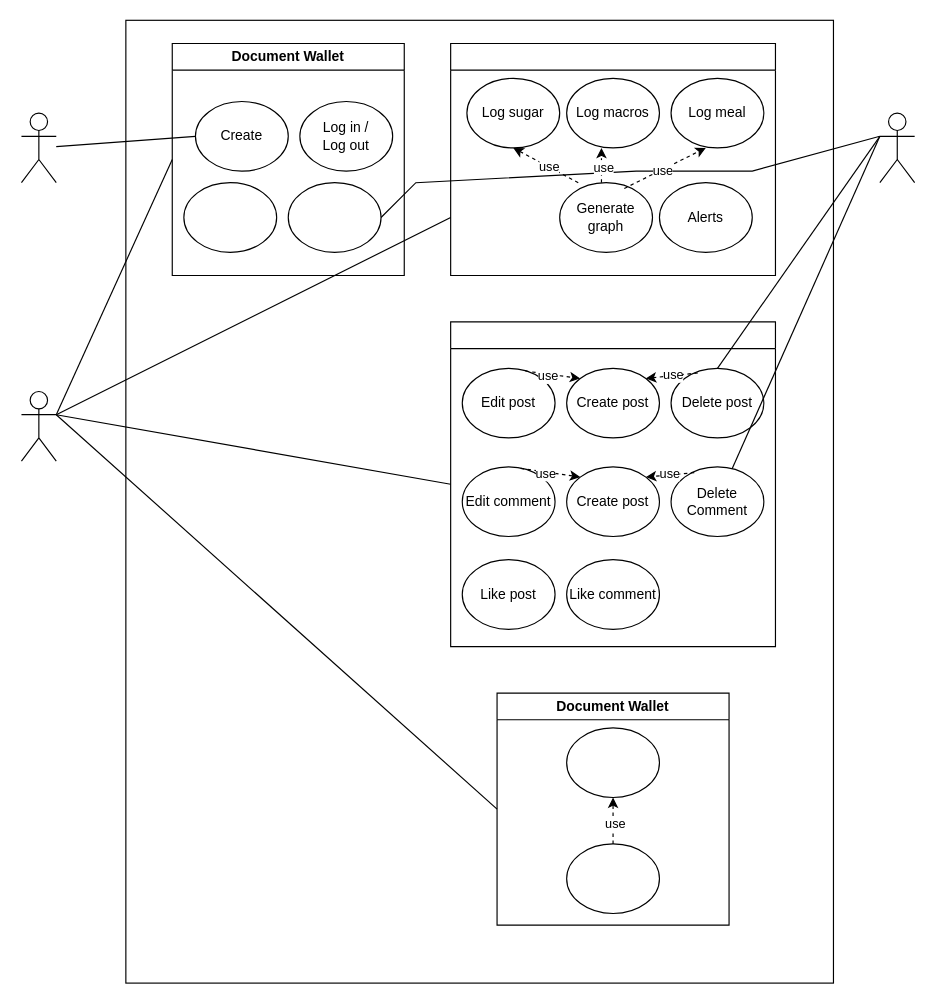
Image size: 937x1003. Some labels were removed from this diagram. The box of each missing label's shape, as (x1, y1, x2, y2) in pixels:
Admin: (879, 112, 915, 183)
Content and Community: (449, 321, 775, 647)
Delete: (287, 182, 381, 252)
Edit: (183, 182, 277, 252)
generate pdf: (566, 843, 659, 913)
store medical docs: (566, 727, 659, 798)
Tracking: (449, 42, 775, 276)
User: (20, 390, 56, 461)
Visitor: (20, 112, 56, 183)
